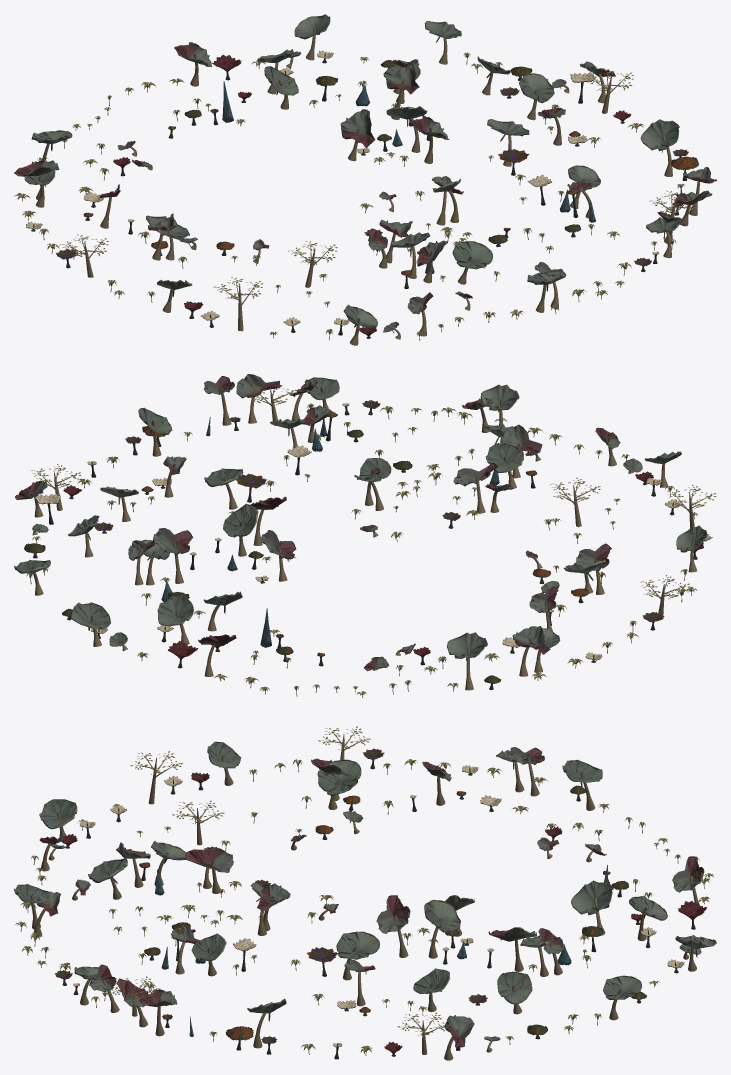
File: forest_vegetation_v15.glb
3 views of the same model, one above another, from view 1: azimuth 30°, elevation 25°; view 2: azimuth 150°, elevation 25°; view 3: azimuth 270°, elevation 25° (orthographic). The views are drawn at different scales.
Parts seen in each view (by area): view 1: Complete_Vegetation_Original_Fans, Complete_Vegetation_Fibrous rooted stems, Complete_Vegetation_Papery leaf pigment, Complete_Vegetation_Dusk olive plates, Complete_Vegetation_Rooted slate fibres, Complete_Vegetation_Burnt umber plates, Complete_Vegetation_Ivory trumpet interior, Complete_Vegetation_Wine cup exterior, Complete_Vegetation_Blue fluted growth; view 2: Complete_Vegetation_Original_Fans, Complete_Vegetation_Fibrous rooted stems, Complete_Vegetation_Papery leaf pigment, Complete_Vegetation_Dusk olive plates, Complete_Vegetation_Rooted slate fibres, Complete_Vegetation_Ivory trumpet interior, Complete_Vegetation_Burnt umber plates, Complete_Vegetation_Wine cup exterior, Complete_Vegetation_Blue fluted growth; view 3: Complete_Vegetation_Original_Fans, Complete_Vegetation_Fibrous rooted stems, Complete_Vegetation_Papery leaf pigment, Complete_Vegetation_Dusk olive plates, Complete_Vegetation_Burnt umber plates, Complete_Vegetation_Rooted slate fibres, Complete_Vegetation_Ivory trumpet interior, Complete_Vegetation_Wine cup exterior, Complete_Vegetation_Blue fluted growth.
Part boxes in pixels (<box>): Complete_Vegetation_Original_Fans: <box>14,14,716,332</box>; Complete_Vegetation_Fibrous rooted stems: <box>22,28,700,345</box>; Complete_Vegetation_Papery leaf pigment: <box>14,52,696,336</box>; Complete_Vegetation_Dusk olive plates: <box>56,60,698,275</box>; Complete_Vegetation_Rooted slate fibres: <box>26,51,686,338</box>; Complete_Vegetation_Burnt umber plates: <box>33,53,698,323</box>; Complete_Vegetation_Ivory trumpet interior: <box>26,50,658,325</box>; Complete_Vegetation_Wine cup exterior: <box>83,55,658,336</box>; Complete_Vegetation_Blue fluted growth: <box>222,81,681,273</box>; Complete_Vegetation_Original_Fans: <box>14,374,707,671</box>; Complete_Vegetation_Fibrous rooted stems: <box>30,386,707,697</box>; Complete_Vegetation_Papery leaf pigment: <box>25,381,716,695</box>; Complete_Vegetation_Dusk olive plates: <box>24,401,663,683</box>; Complete_Vegetation_Rooted slate fibres: <box>33,406,712,689</box>; Complete_Vegetation_Ivory trumpet interior: <box>35,403,711,659</box>; Complete_Vegetation_Burnt umber plates: <box>25,400,673,683</box>; Complete_Vegetation_Wine cup exterior: <box>34,404,703,659</box>; Complete_Vegetation_Blue fluted growth: <box>161,417,499,647</box>; Complete_Vegetation_Original_Fans: <box>14,741,716,1047</box>; Complete_Vegetation_Fibrous rooted stems: <box>20,732,709,1060</box>; Complete_Vegetation_Papery leaf pigment: <box>15,726,713,1053</box>; Complete_Vegetation_Dusk olive plates: <box>56,750,646,1043</box>; Complete_Vegetation_Burnt umber plates: <box>54,748,676,1045</box>; Complete_Vegetation_Rooted slate fibres: <box>62,759,695,1059</box>; Complete_Vegetation_Ivory trumpet interior: <box>73,765,683,1046</box>; Complete_Vegetation_Wine cup exterior: <box>61,772,706,1054</box>; Complete_Vegetation_Blue fluted growth: <box>155,865,609,1036</box>.
Size of the model in its own units: 70.5 by 6.52 by 67.84.
Materials: 10 (9 with a texture image).
